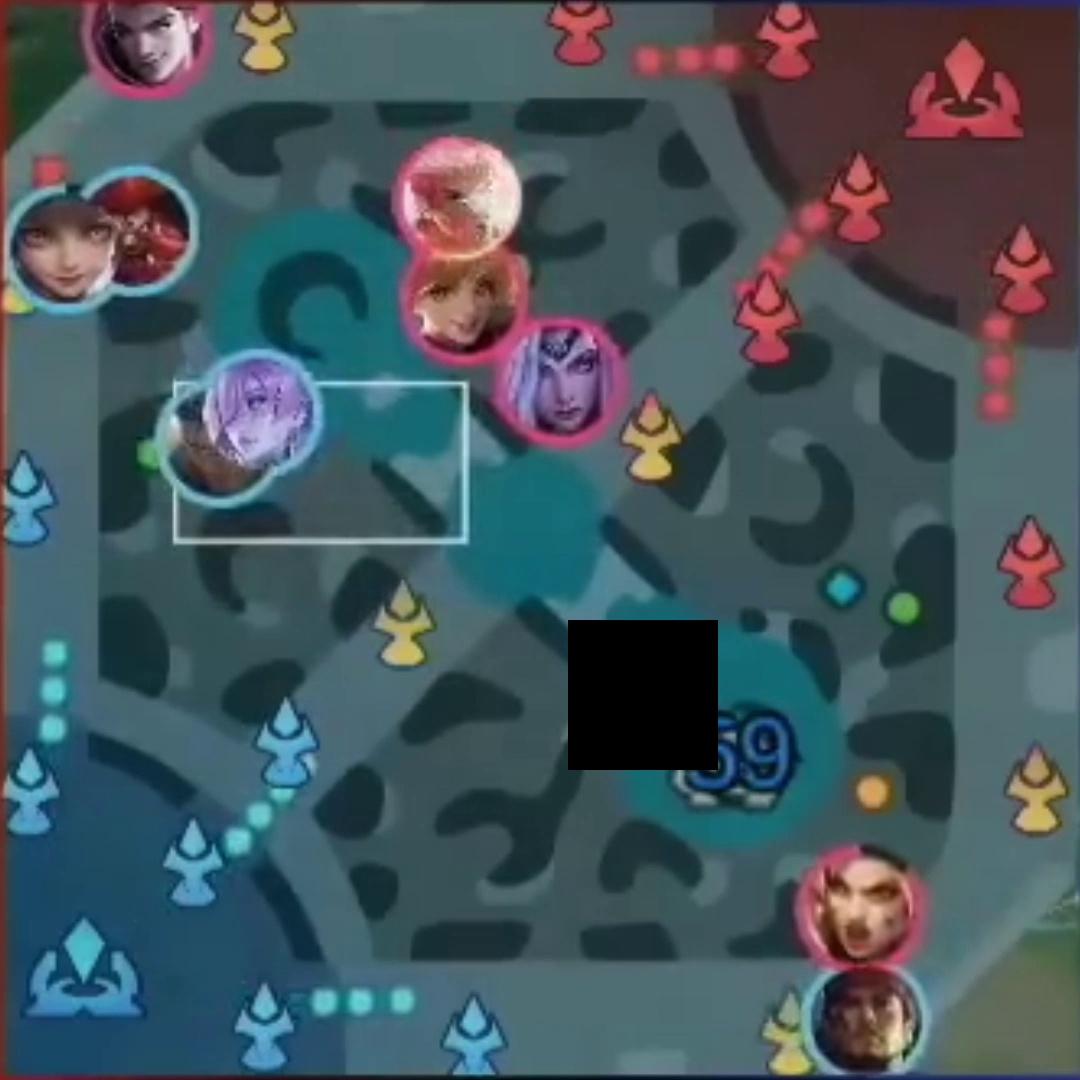Chou: (411, 153, 498, 249)
Claude: (109, 2, 190, 74)
Fanny: (419, 261, 502, 343)
Lapu-Lapu: (826, 972, 911, 1065)
Masha: (818, 861, 902, 959)
Minotaur: (118, 179, 178, 279)
Novaria: (222, 368, 307, 457)
Valentina: (514, 337, 606, 423)
Wanwan: (23, 196, 112, 301)
